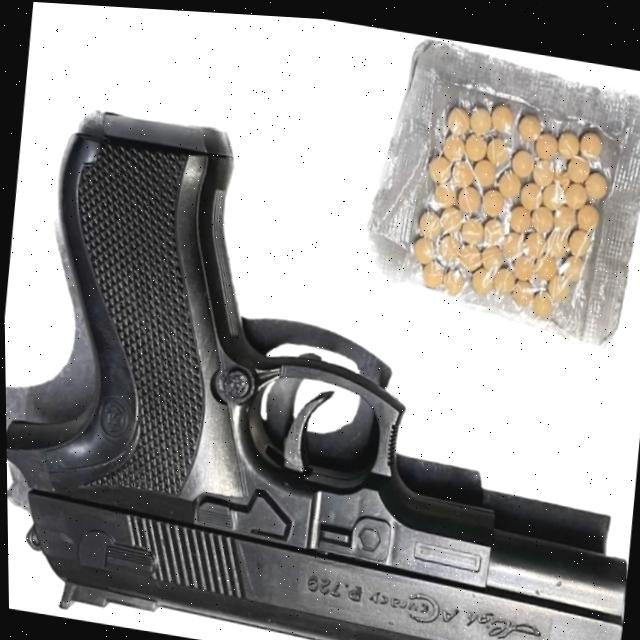gun: (6, 108, 628, 640)
